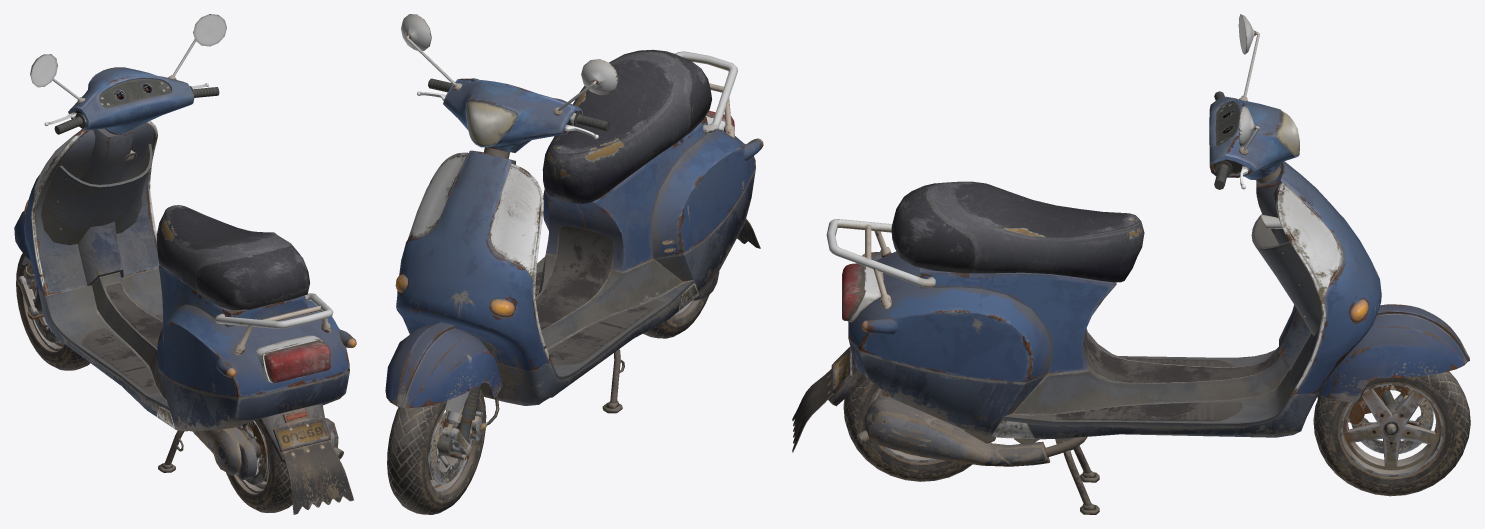
The model's file is Scooter.fbx.
3 renders of one model, left to right at view 1: azimuth 30°, elevation 25°; view 2: azimuth 150°, elevation 25°; view 3: azimuth 270°, elevation 25°, orthographic. The views are drawn at different scales.
Visible parts, largest first — view 1: Geometry_Scooter_A_LOD00, Geometry_Scooter_B_LOD00; view 2: Geometry_Scooter_A_LOD00, Geometry_Scooter_B_LOD00; view 3: Geometry_Scooter_A_LOD00, Geometry_Scooter_B_LOD00.
Boxes of the visible parts, bbox=[...] form: Geometry_Scooter_A_LOD00: bbox=[24, 121, 356, 514]; Geometry_Scooter_B_LOD00: bbox=[14, 14, 226, 370]; Geometry_Scooter_A_LOD00: bbox=[395, 49, 763, 413]; Geometry_Scooter_B_LOD00: bbox=[385, 14, 618, 514]; Geometry_Scooter_A_LOD00: bbox=[792, 161, 1381, 514]; Geometry_Scooter_B_LOD00: bbox=[1209, 14, 1470, 496].
Bounding box in the file's own units: 85.54 × 158 × 225.
